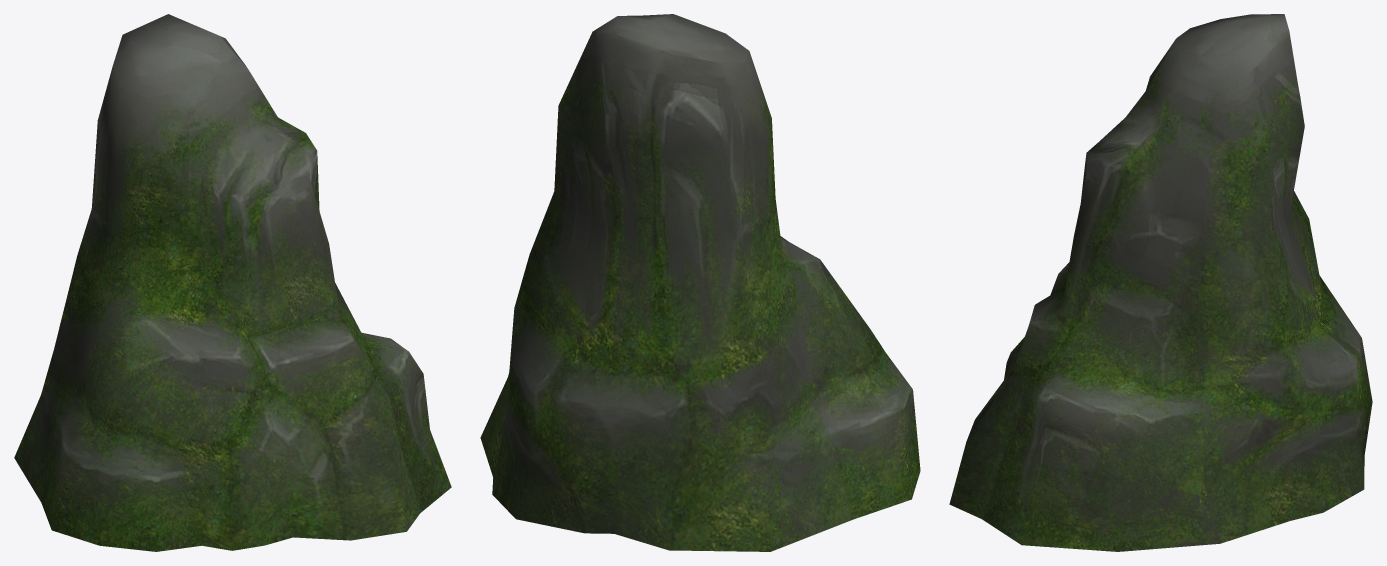
Rendered from Stage_CaoYuan_ShanShi02.FBX.
3 renders of one model, left to right at view 1: azimuth 30°, elevation 25°; view 2: azimuth 150°, elevation 25°; view 3: azimuth 270°, elevation 25°, orthographic. The views are drawn at different scales.
Parts seen in each view (by area): view 1: Stage_CaoYuan_ShanShi02; view 2: Stage_CaoYuan_ShanShi02; view 3: Stage_CaoYuan_ShanShi02.
Part boxes in pixels (left/top/right/bottom): Stage_CaoYuan_ShanShi02: left=14, top=14, right=451, bottom=551; Stage_CaoYuan_ShanShi02: left=480, top=14, right=920, bottom=551; Stage_CaoYuan_ShanShi02: left=949, top=14, right=1372, bottom=551.
Size of the model in its own units: 926 by 1033 by 910.
